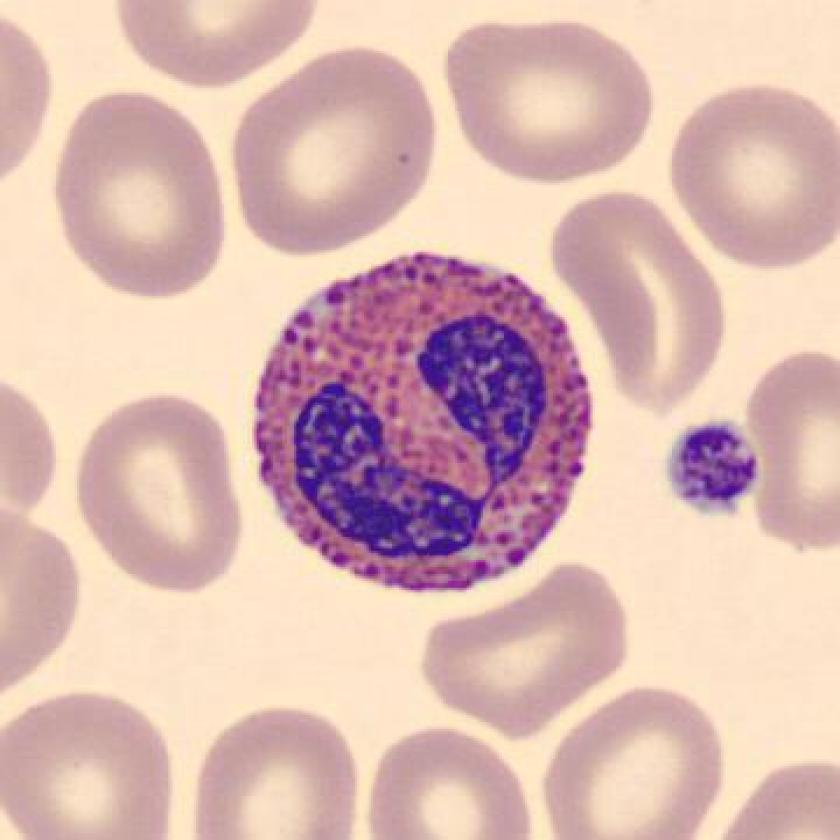eosinophil: (239, 240, 612, 608)
